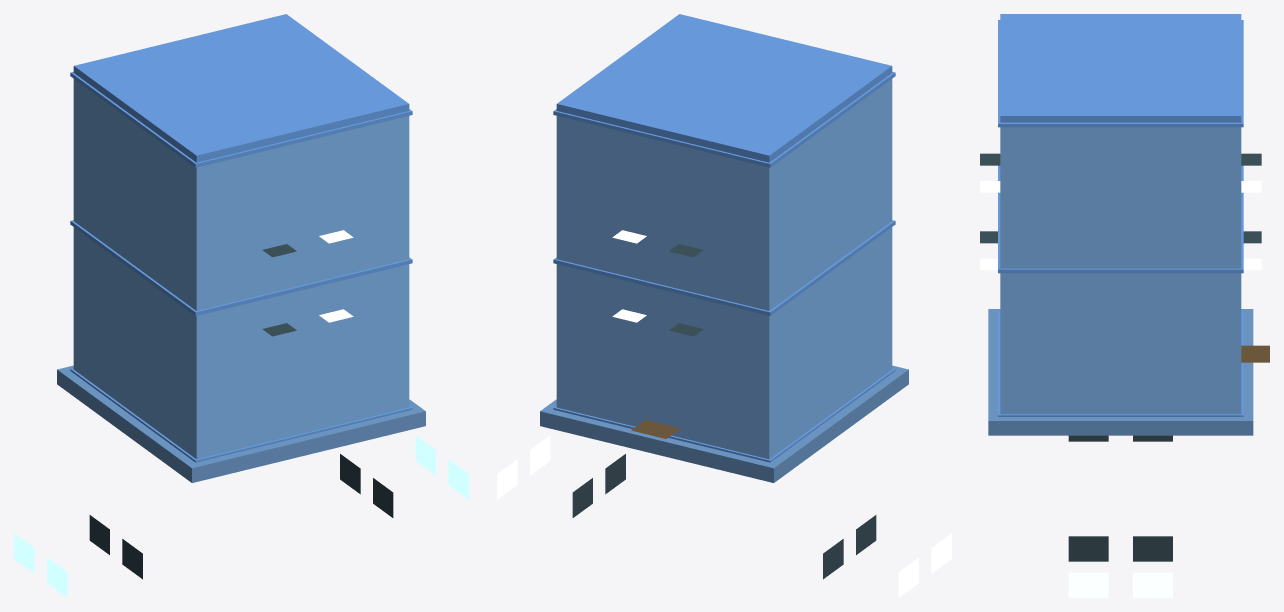
The model's file is coding_lab.glb.
3 views of the same model, side by side, from view 1: azimuth 30°, elevation 25°; view 2: azimuth 150°, elevation 25°; view 3: azimuth 270°, elevation 25° (orthographic).
Visible parts, largest first — view 1: coding_lab; view 2: coding_lab; view 3: coding_lab.
Part boxes in pixels (box(x1,y1,x2,y2)): coding_lab: box(14, 14, 468, 597); coding_lab: box(497, 14, 951, 597); coding_lab: box(980, 14, 1269, 597).
Size of the model in its own units: 5.67 by 6 by 3.61.
